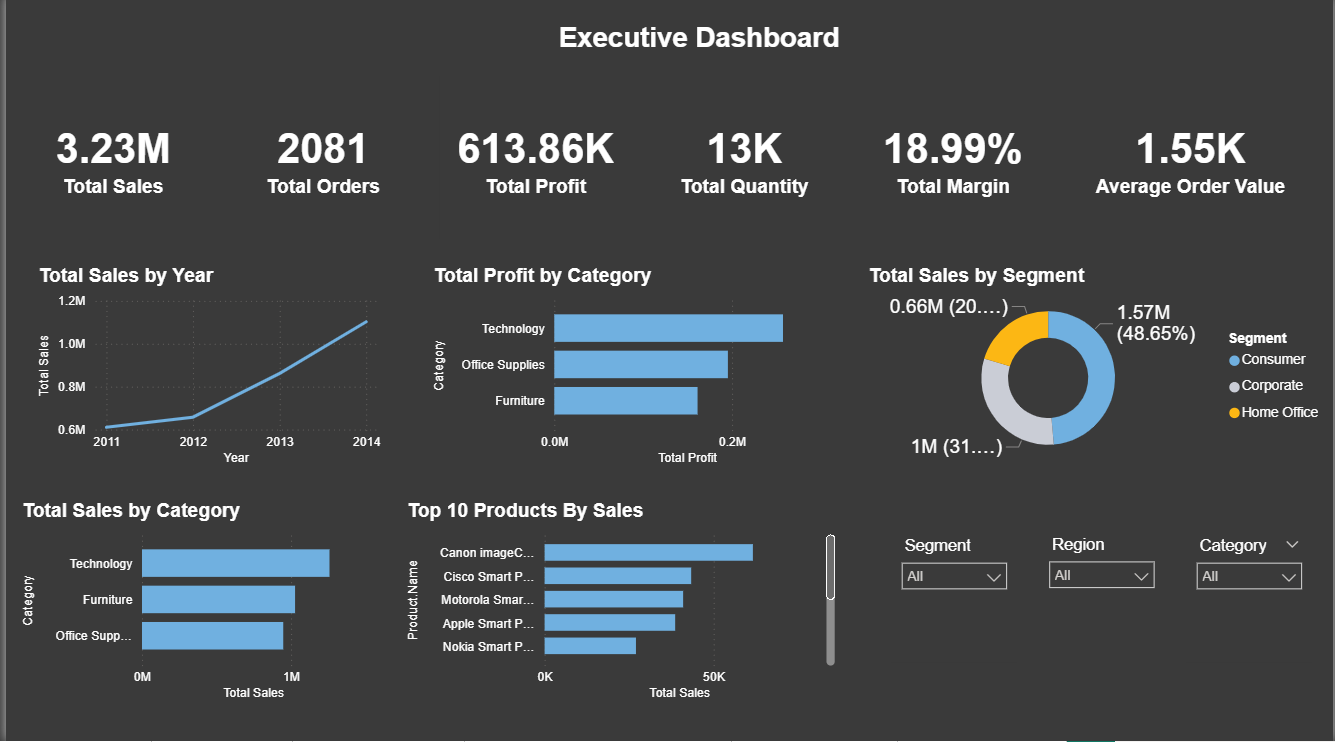

Layout of this report page (visuals, bound fields, positions):
{"tool":"powerbi","page":{"name":"Executive Dashboard","canvas":[1280,720],"ordinal":0},"visuals":[{"type":"card","fields":{"Values":["Measures (2).Total Orders"]},"box":[213.5,78.4,185.8,156.8],"z":0},{"type":"card","fields":{"Values":["Measures (2).Total Profit"]},"box":[418.6,78.4,185.8,156.8],"z":1000},{"type":"card","fields":{"Values":["Measures (2).Total Sales"]},"box":[10.9,78.4,185.8,156.8],"z":2000},{"type":"card","fields":{"Values":["Measures (2).Total Quantity"]},"box":[620.1,78.4,185.8,156.8],"z":3000},{"type":"lineChart","fields":{"Category":["superstore.Order.Date.Variation.Date Hierarchy.Year","superstore.Order.Date.Variation.Date Hierarchy.Quarter","superstore.Order.Date.Variation.Date Hierarchy.Month","superstore.Order.Date.Variation.Date Hierarchy.Day"],"Y":["Measures (2).Total Sales"]},"box":[26.1,260.7,340.3,197.6],"z":4000},{"type":"clusteredBarChart","fields":{"Category":["superstore.Category"],"Y":["Measures (2).Total Profit"]},"box":[407.5,260.7,397.9,197.6],"z":5000},{"type":"barChart","title":"Top 10 Products By Sales","fields":{"Category":["superstore.Product.Name"],"Y":["Measures (2).Total Sales"]},"box":[382.8,487.1,422.6,197.6],"z":6000},{"type":"slicer","fields":{"Values":["superstore.Category"]},"box":[1138.9,517.6,121.9,126.7],"z":7000},{"type":"slicer","fields":{"Values":["superstore.Segment"]},"box":[854.2,517.6,121.9,126.7],"z":8000},{"type":"card","fields":{"Values":["Measures (2).Total Margin"]},"box":[821.6,78.4,185.8,156.8],"z":9000},{"type":"card","fields":{"Values":["Measures (2).Average Order Value"]},"box":[1025,78.2,236,156.4],"z":10000},{"type":"clusteredBarChart","fields":{"Category":["superstore.Category"],"Y":["Measures (2).Total Sales"]},"box":[11,487.1,355.4,197.6],"z":11000},{"type":"donutChart","fields":{"Y":["Measures (2).Total Sales"],"Category":["superstore.Segment"]},"box":[827.4,260.7,452.8,197.6],"z":12000},{"type":"slicer","fields":{"Values":["superstore.Region"]},"box":[996.5,516.4,121.9,126.7],"z":13000},{"type":"textbox","box":[528.3,22,299.1,56.3],"z":14000}]}

Visuals, with their boxes in screenshot pixels (x1, y1, x2, y2), scaled from the page's 1280x720 canvas onto the 1335x742 screenshot:
card - Measures (2).Total Orders: (223,81,416,242)
card - Measures (2).Total Profit: (437,81,630,242)
card - Measures (2).Total Sales: (11,81,205,242)
card - Measures (2).Total Quantity: (647,81,841,242)
lineChart - superstore.Order.Date.Variation.Date Hierarchy.Year x superstore.Order.Date.Variation.Date Hierarchy.Quarter: (27,269,382,472)
clusteredBarChart - superstore.Category x Measures (2).Total Profit: (425,269,840,472)
"Top 10 Products By Sales" barChart: (399,502,840,706)
slicer - superstore.Category: (1188,533,1315,664)
slicer - superstore.Segment: (891,533,1018,664)
card - Measures (2).Total Margin: (857,81,1051,242)
card - Measures (2).Average Order Value: (1069,81,1315,242)
clusteredBarChart - superstore.Category x Measures (2).Total Sales: (11,502,382,706)
donutChart - Measures (2).Total Sales x superstore.Segment: (863,269,1334,472)
slicer - superstore.Region: (1039,532,1166,663)
textbox: (551,23,863,81)
